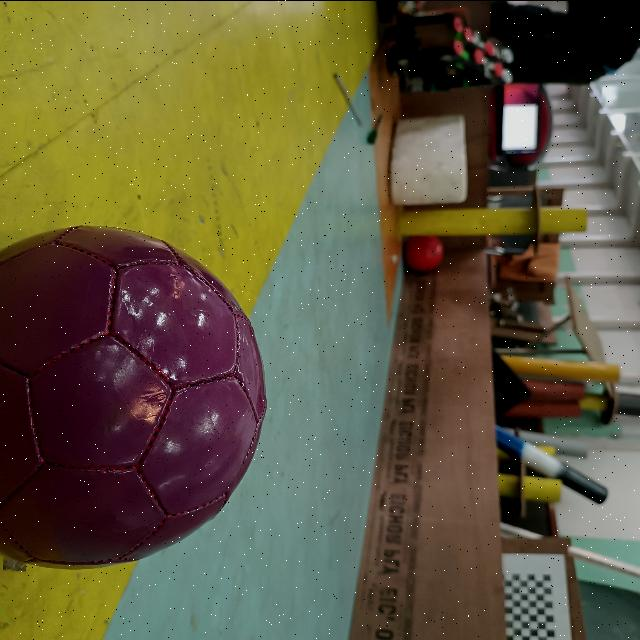P: (0, 220, 274, 574)
R: (402, 232, 446, 272)
